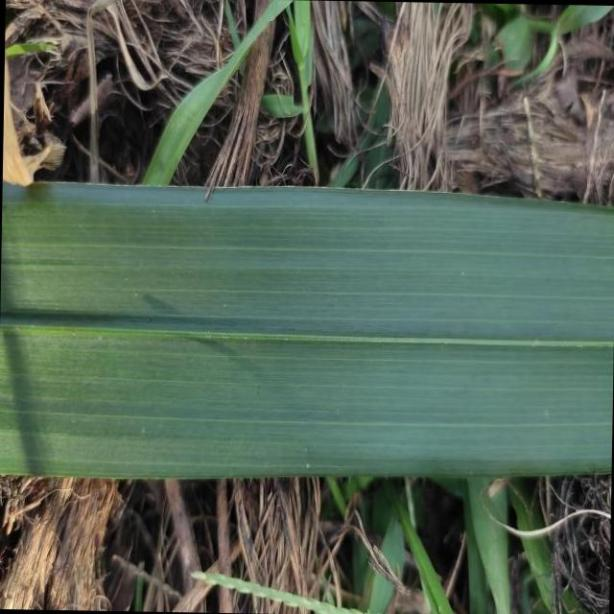Healthy: (0, 174, 614, 474)
